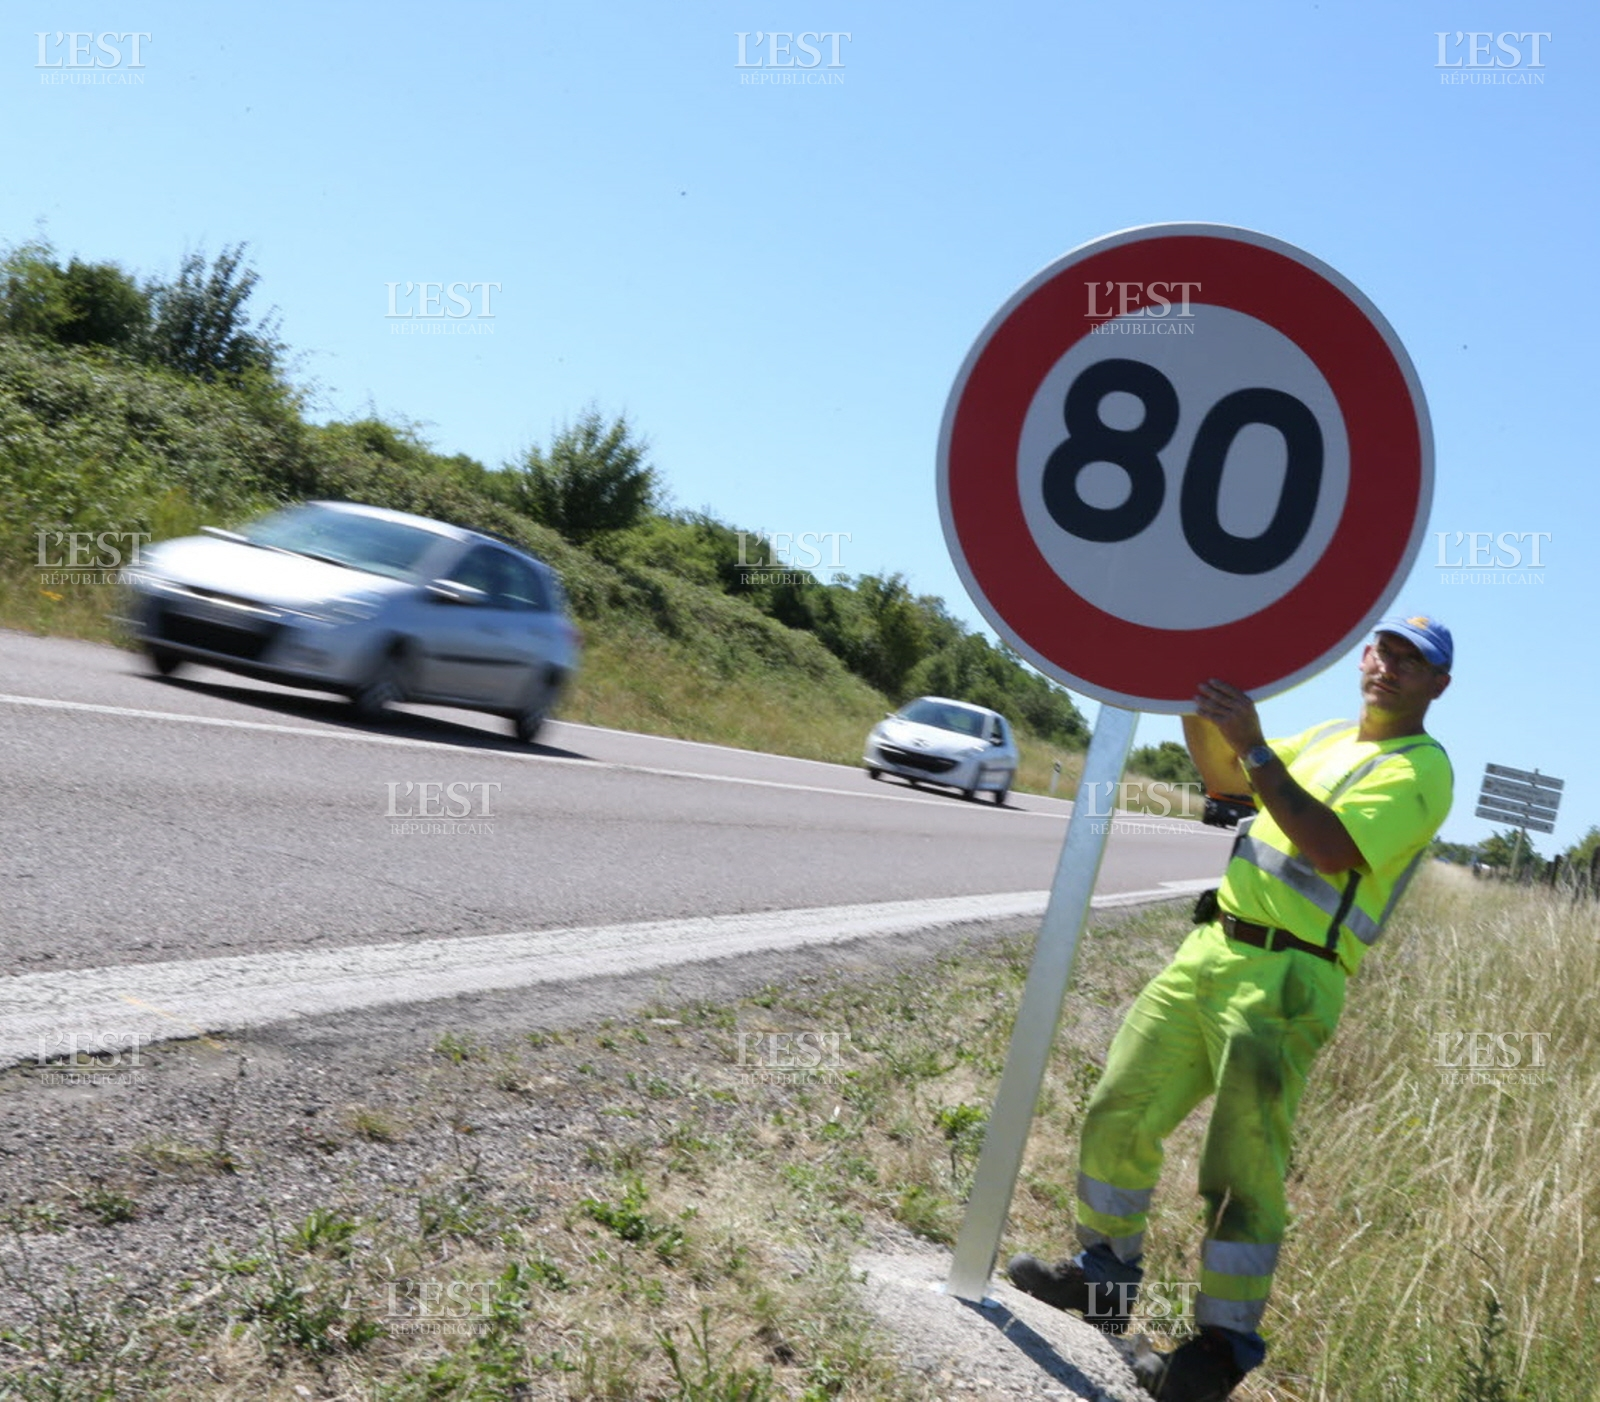Speed_limit_80km: (927, 221, 1435, 711)
